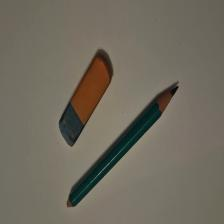eraser: (60, 55, 113, 149)
pencil: (68, 87, 180, 209)
